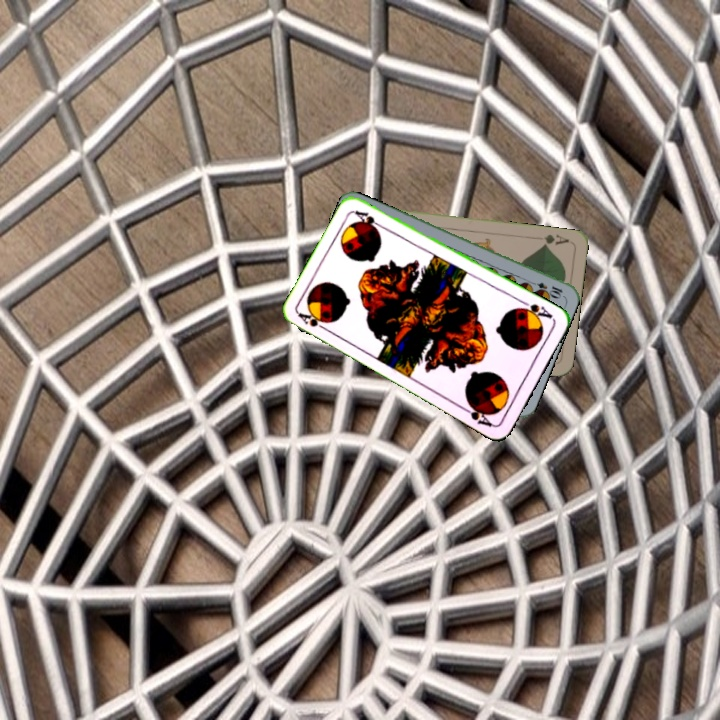E10: (525, 277, 565, 300)
GA: (539, 230, 571, 249)
SA: (515, 297, 555, 323), (294, 308, 332, 335)
